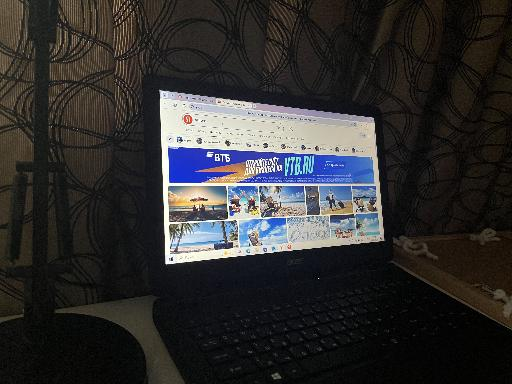yandex: (162, 108, 382, 240)
